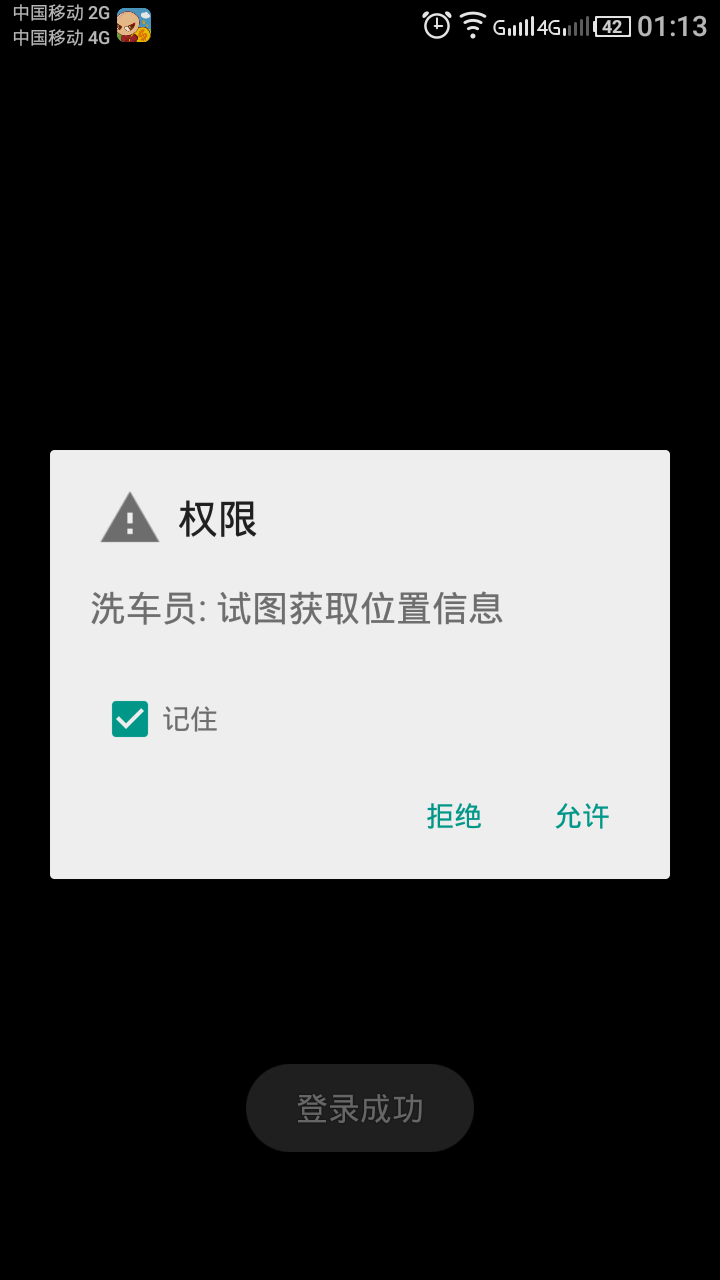alert: (40, 448, 674, 890)
checkbox: (104, 675, 239, 753)
textview: (75, 584, 521, 635), (171, 484, 267, 545)
